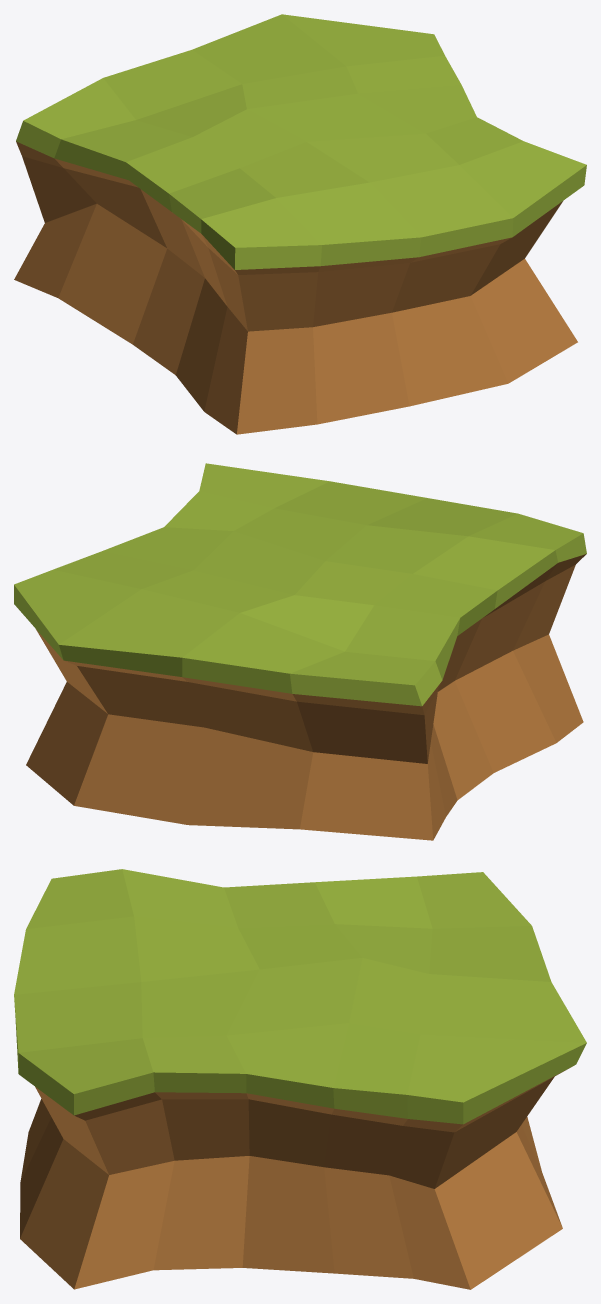
Rendered from drn_textured8.fbx.
The picture shows the model from 3 angles, top to bottom: view 1: azimuth 30°, elevation 25°; view 2: azimuth 150°, elevation 25°; view 3: azimuth 270°, elevation 25°; orthographic projection. The views are drawn at different scales.
Visible parts, largest first — view 1: JaynamLowPolyTerrain_drny_rozdelane:pCube7; view 2: JaynamLowPolyTerrain_drny_rozdelane:pCube7; view 3: JaynamLowPolyTerrain_drny_rozdelane:pCube7.
Boxes of the visible parts, x1,y1,x2,y2 form: JaynamLowPolyTerrain_drny_rozdelane:pCube7: (14,14,586,434); JaynamLowPolyTerrain_drny_rozdelane:pCube7: (14,463,586,840); JaynamLowPolyTerrain_drny_rozdelane:pCube7: (14,869,586,1289).
Size of the model in its own units: 0.7562 by 0.3401 by 0.7898.
